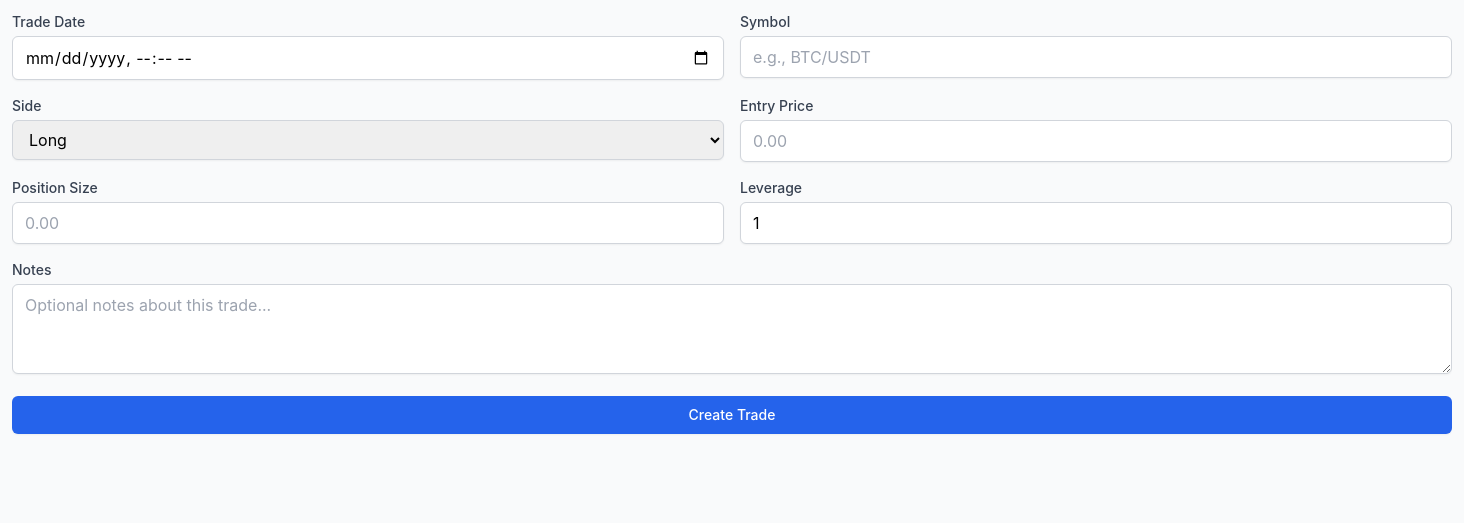
Test case: TradeForm › should show validation errors for empty required fields
The image size is (1464, 523).
Click the button "Create Trade": (732, 415) [12,396,1452,434]
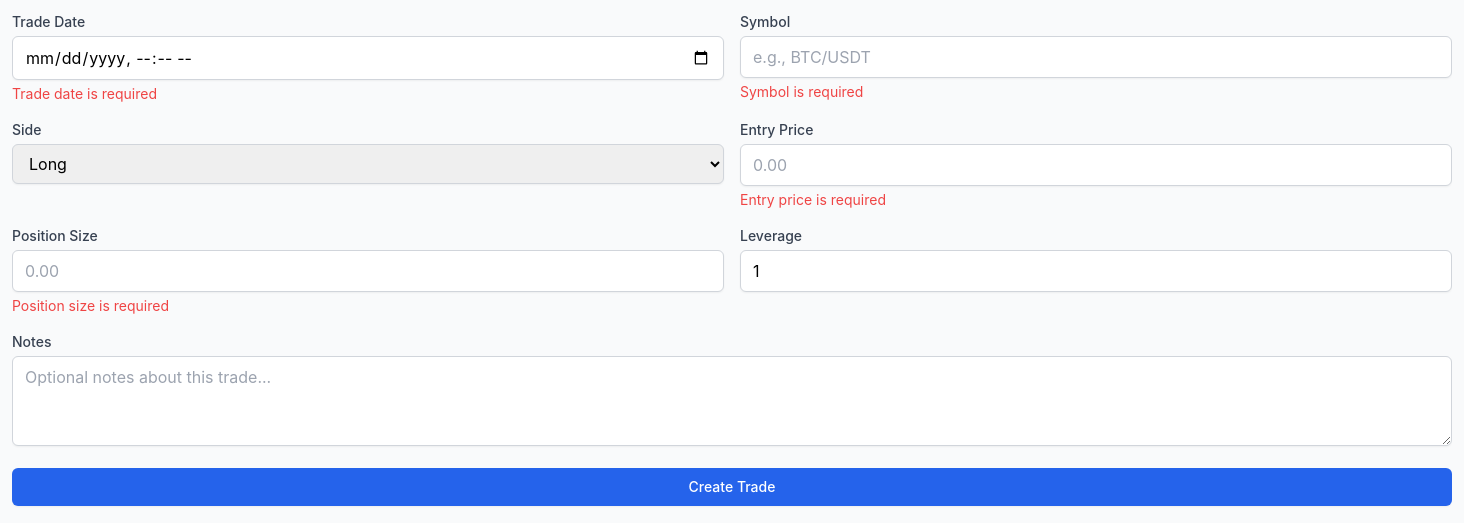
Check: the text "Trade date is required" is shown, box [12,85,157,102]
Check: the text "Symbol is required" is shown, box [740,83,863,100]
Check: the text "Entry price is required" is shown, box [740,191,886,208]
